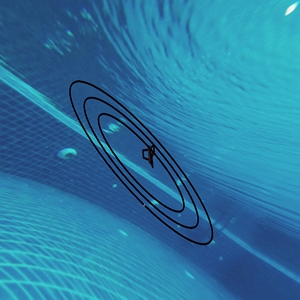submarine: (141, 150, 158, 165)
